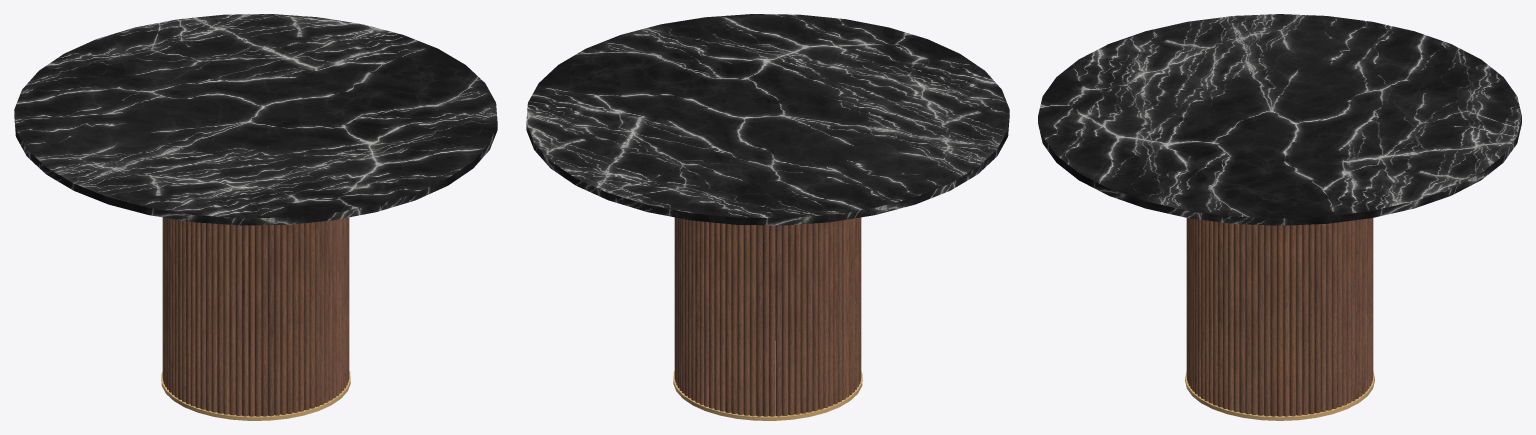
Rendered from diningRoundReal.glb.
3 renders of one model, left to right at view 1: azimuth 30°, elevation 25°; view 2: azimuth 150°, elevation 25°; view 3: azimuth 270°, elevation 25°, orthographic.
Visible parts, largest first — view 1: Round dining table; view 2: Round dining table; view 3: Round dining table.
Part boxes in pixels (x1,y1,x2,y2): Round dining table: (14,14,497,420); Round dining table: (526,14,1009,420); Round dining table: (1038,14,1521,420).
Bounding box in the file's own units: 1.21 × 0.7286 × 1.21.
3 materials, 2 textured.
